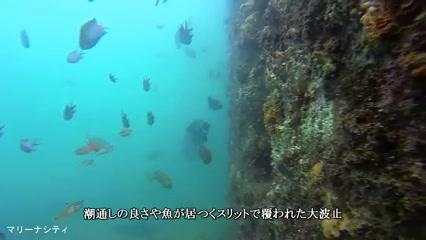smallfish: (72, 18, 110, 55), (55, 98, 84, 126)
